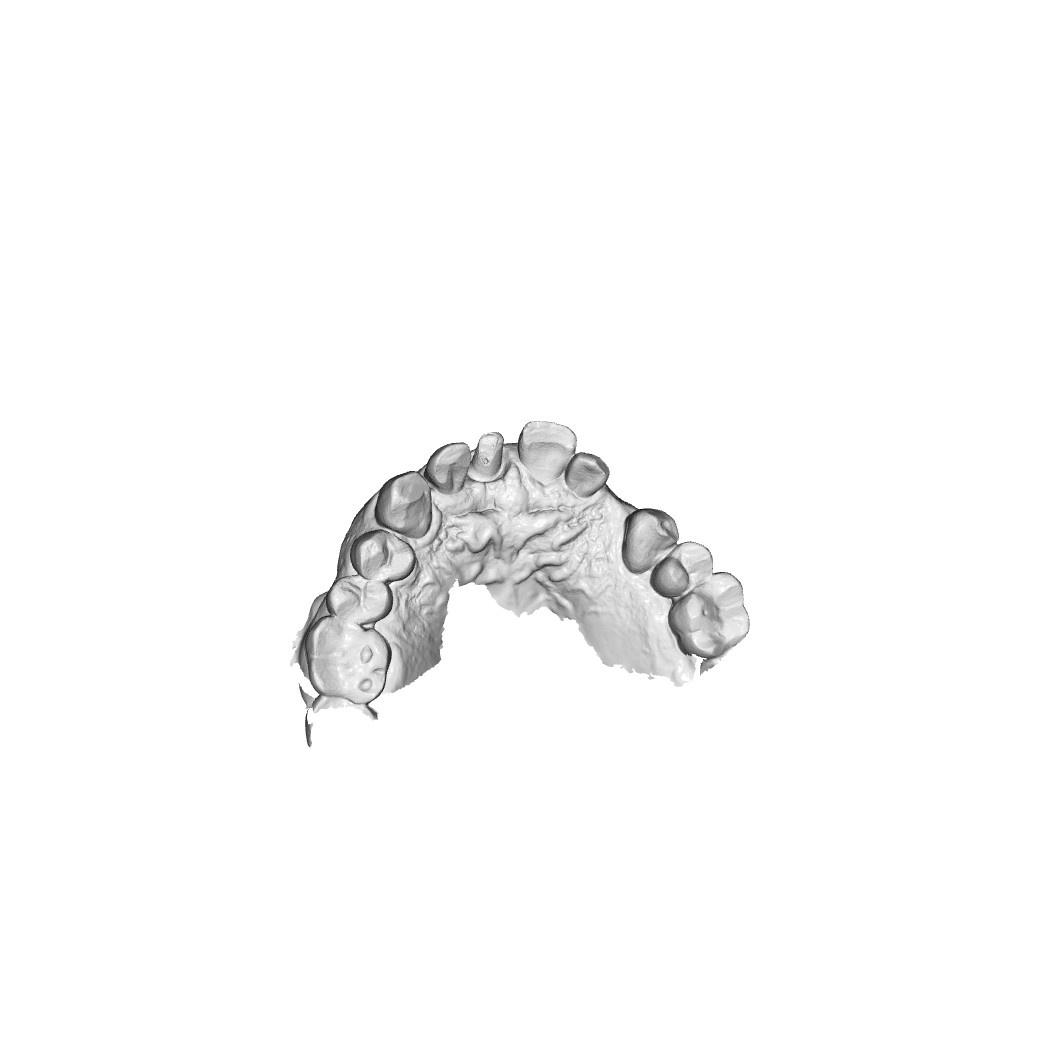canine: (374, 469, 441, 538)
incisor: (518, 420, 574, 477), (428, 440, 474, 496), (470, 425, 513, 481), (565, 452, 611, 497)
molar: (670, 571, 754, 659), (310, 618, 386, 702)
premolar: (618, 507, 674, 569), (658, 540, 716, 594), (329, 577, 388, 627), (354, 533, 413, 583)
